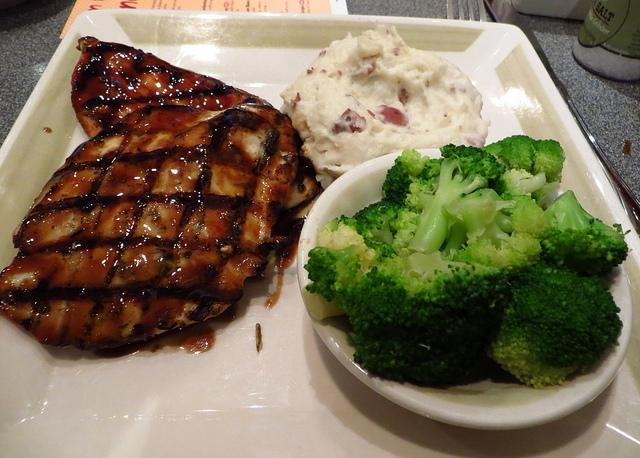broccoli: (338, 250, 511, 383), (485, 261, 623, 390), (407, 143, 507, 254), (438, 188, 548, 284), (534, 191, 630, 278), (480, 134, 566, 182), (382, 149, 446, 209), (304, 245, 362, 303), (352, 201, 398, 262), (390, 206, 420, 257)
